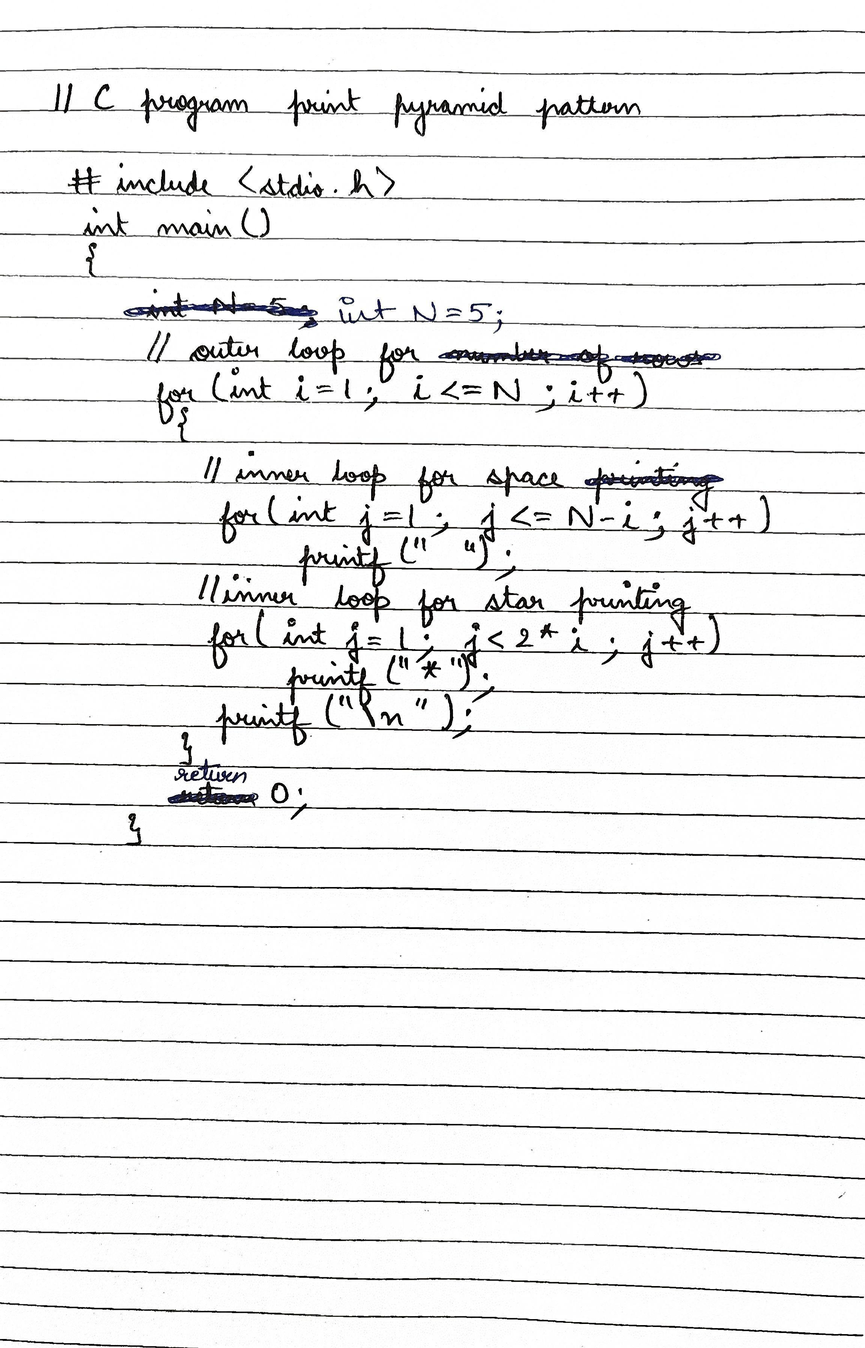cuttings: (435, 340, 722, 385), (122, 288, 321, 331), (582, 459, 725, 514), (166, 779, 259, 807)
